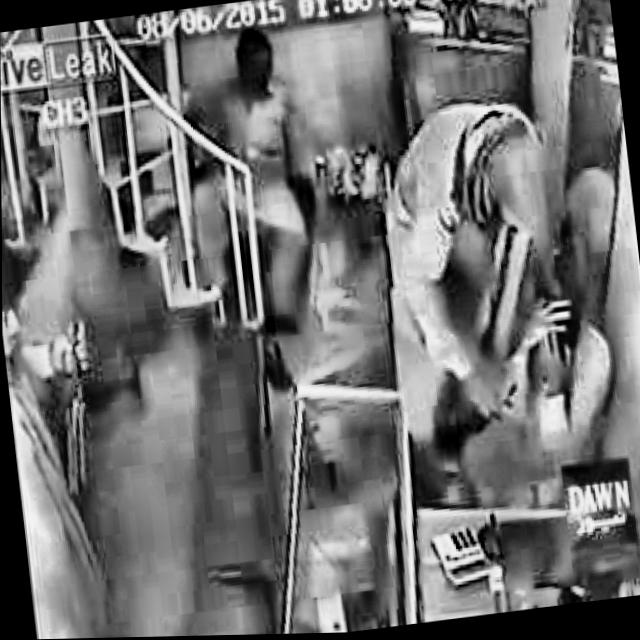robbery: (365, 91, 596, 457), (2, 266, 136, 640)
